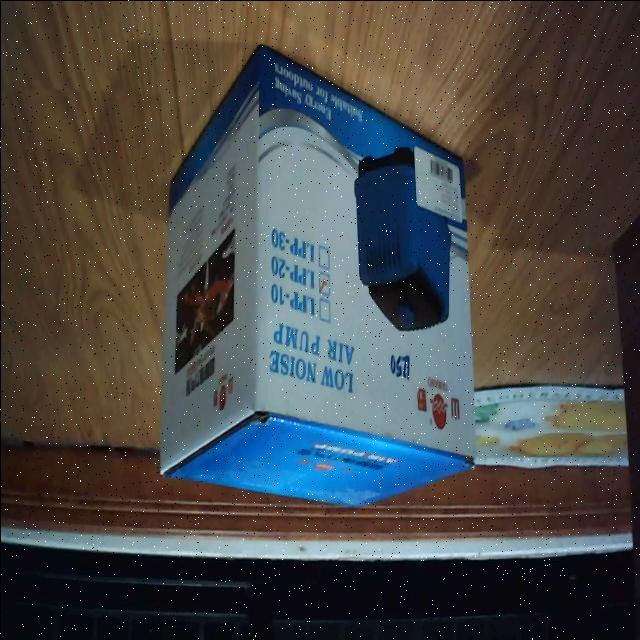YAMANO_LPP_20: (151, 28, 477, 516)
